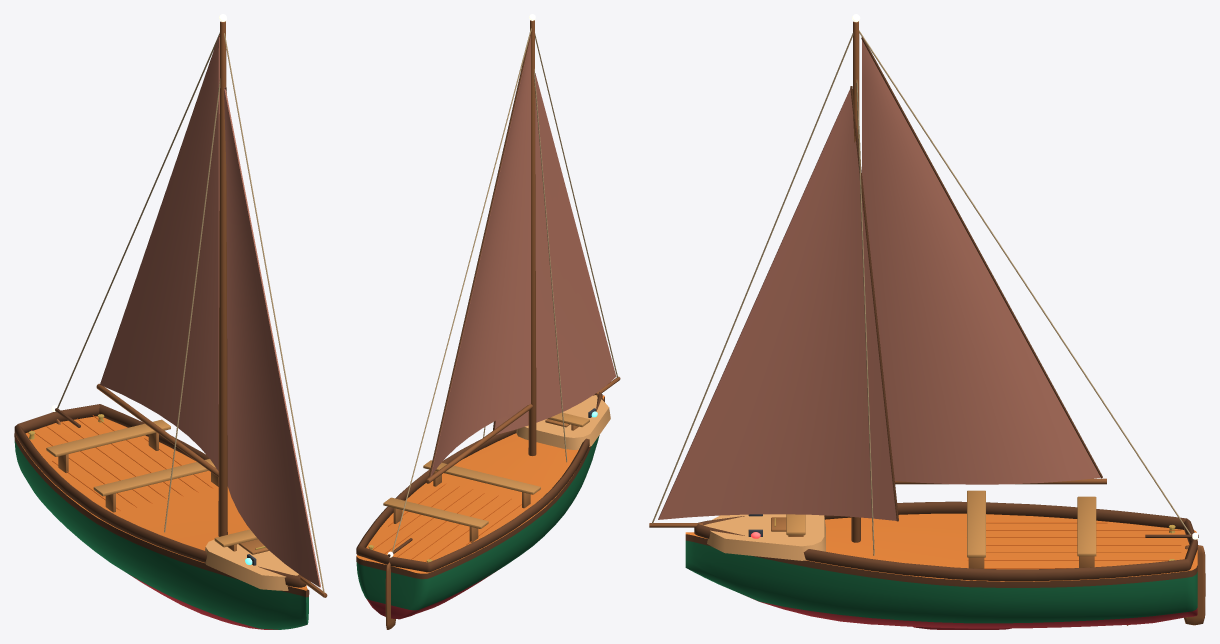
Rendered from veleiro_madeira_verde.glb.
3 renders of one model, left to right at view 1: azimuth 30°, elevation 25°; view 2: azimuth 150°, elevation 25°; view 3: azimuth 270°, elevation 25°, orthographic. The views are drawn at different scales.
Parts seen in each view (by area): view 1: veleiro_madeira_verde, vela_grande; view 2: veleiro_madeira_verde, vela_grande; view 3: veleiro_madeira_verde, vela_grande.
Boxes of the visible parts, bbox=[...] form: veleiro_madeira_verde: bbox=[14, 14, 327, 629]; vela_grande: bbox=[96, 35, 219, 477]; veleiro_madeira_verde: bbox=[356, 14, 620, 629]; vela_grande: bbox=[425, 35, 532, 483]; veleiro_madeira_verde: bbox=[649, 14, 1205, 629]; vela_grande: bbox=[861, 37, 1106, 484].
Bounding box in the file's own units: 2.76 × 11.36 × 9.32.
4 materials, 1 textured.
